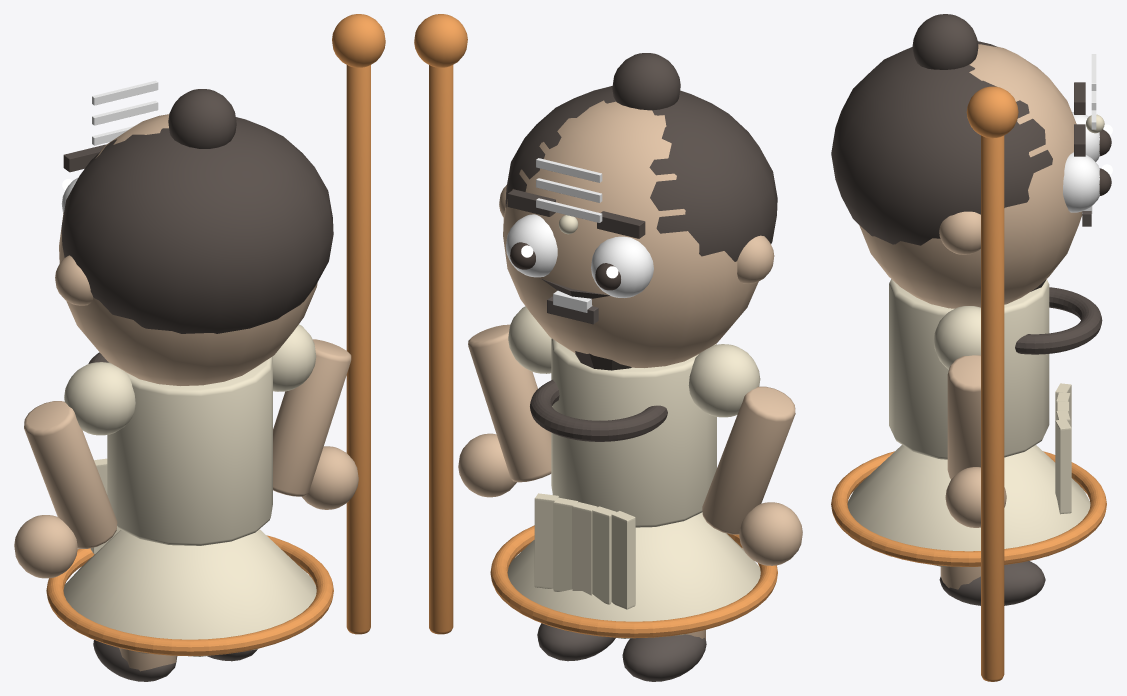
File: sage.glb
3 renders of one model, left to right at view 1: azimuth 30°, elevation 25°; view 2: azimuth 150°, elevation 25°; view 3: azimuth 270°, elevation 25°, orthographic. The views are drawn at different scales.
Visible parts, largest first — view 1: GEO-sage-hair, GEO-sage-torso, GEO-sage-dhoti, GEO-sage-staff, GEO-sage-head, GEO-sage-arm, GEO-sage-hem, GEO-sage-arm.001, GEO-sage-shoulder, GEO-sage-knot, GEO-sage-hand, GEO-sage-hand.001 (+8 smaller); view 2: GEO-sage-head, GEO-sage-torso, GEO-sage-hair, GEO-sage-staff, GEO-sage-dhoti, GEO-sage-arm, GEO-sage-arm.001, GEO-sage-hem, GEO-sage-shoulder, GEO-sage-rudraksha, GEO-sage-knot, GEO-sage-hand (+20 smaller); view 3: GEO-sage-hair, GEO-sage-head, GEO-sage-torso, GEO-sage-dhoti, GEO-sage-staff, GEO-sage-hem, GEO-sage-arm.001, GEO-sage-knot, GEO-sage-rudraksha, GEO-sage-shoulder.001, GEO-sage-shoe.001, GEO-sage-stafftop (+6 smaller).
Part boxes in pixels (x1,y1,x2,y2): GEO-sage-hair: (61, 117, 333, 333); GEO-sage-torso: (107, 356, 272, 545); GEO-sage-dhoti: (63, 529, 316, 656); GEO-sage-staff: (346, 65, 370, 634); GEO-sage-head: (59, 114, 317, 385); GEO-sage-arm: (24, 401, 117, 548); GEO-sage-hem: (46, 535, 333, 656); GEO-sage-arm.001: (273, 339, 351, 496); GEO-sage-shoulder: (64, 362, 135, 435); GEO-sage-knot: (168, 89, 236, 148); GEO-sage-hand: (14, 515, 77, 578); GEO-sage-hand.001: (302, 446, 358, 509); GEO-sage-head: (503, 100, 758, 367); GEO-sage-torso: (551, 338, 716, 527); GEO-sage-hair: (505, 86, 777, 261); GEO-sage-staff: (429, 65, 453, 634); GEO-sage-dhoti: (507, 512, 760, 638); GEO-sage-arm: (702, 386, 795, 534); GEO-sage-arm.001: (468, 324, 551, 482); GEO-sage-hem: (490, 525, 777, 638); GEO-sage-shoulder: (688, 344, 760, 417); GEO-sage-rudraksha: (530, 379, 667, 441); GEO-sage-knot: (612, 53, 680, 110); GEO-sage-hand: (739, 502, 802, 565); GEO-sage-hair: (831, 41, 1052, 245); GEO-sage-head: (859, 44, 1082, 308); GEO-sage-torso: (889, 279, 1049, 459); GEO-sage-dhoti: (847, 445, 1090, 566); GEO-sage-staff: (981, 135, 1004, 681); GEO-sage-hem: (831, 451, 1106, 566); GEO-sage-arm.001: (947, 355, 980, 479); GEO-sage-knot: (912, 14, 978, 69); GEO-sage-rudraksha: (1015, 287, 1102, 354); GEO-sage-shoulder.001: (933, 306, 980, 369); GEO-sage-shoe.001: (939, 561, 1045, 605); GEO-sage-stafftop: (966, 86, 1018, 138).
Bounding box in the file's own units: 1.75 × 2.76 × 1.2.
